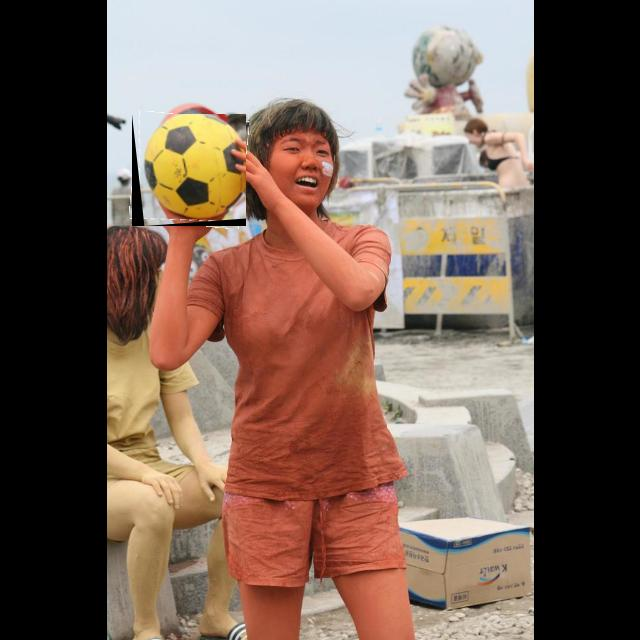Football: (132, 114, 246, 226)
